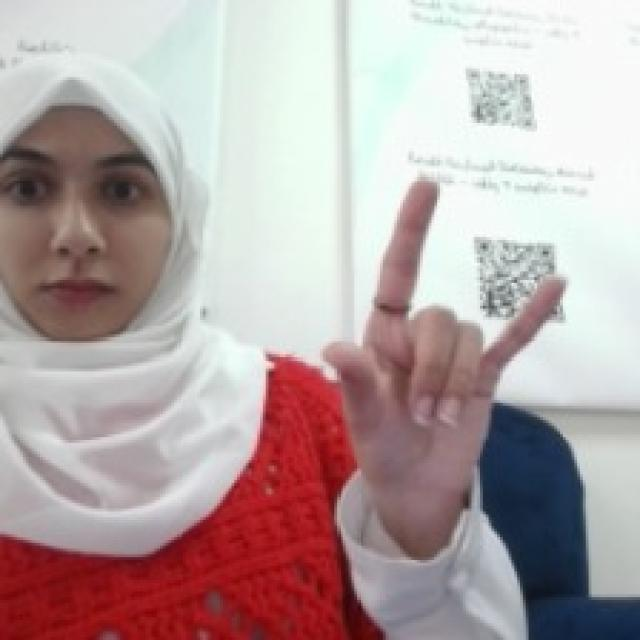love: (314, 166, 574, 488)
